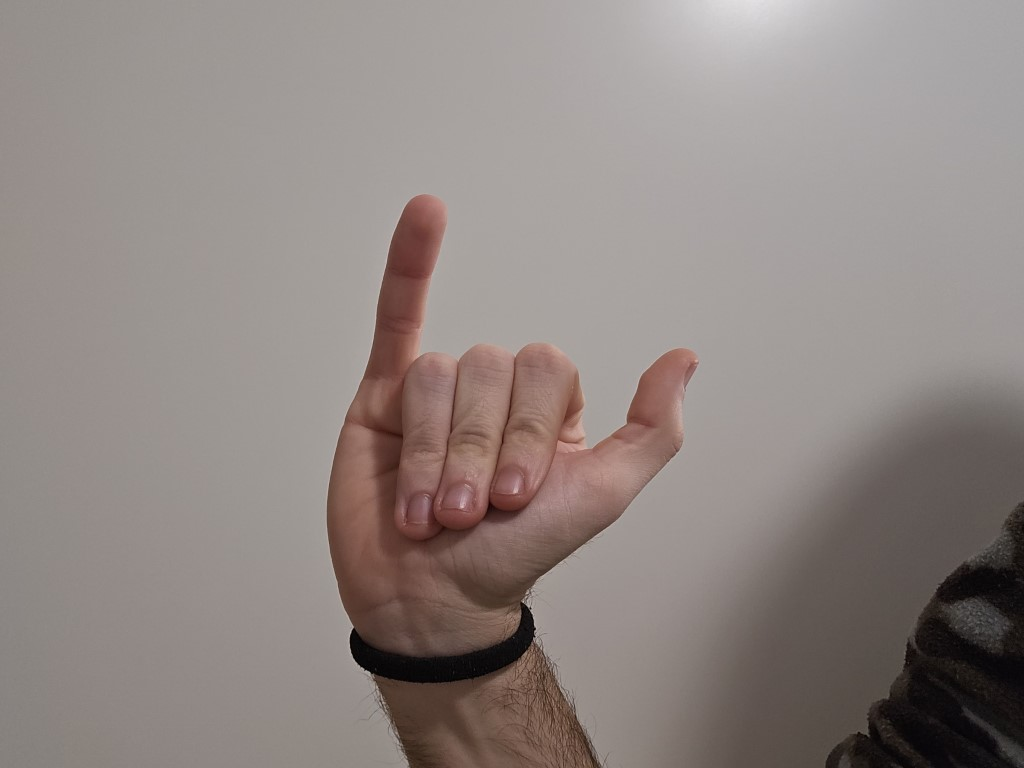y: (298, 184, 710, 643)
